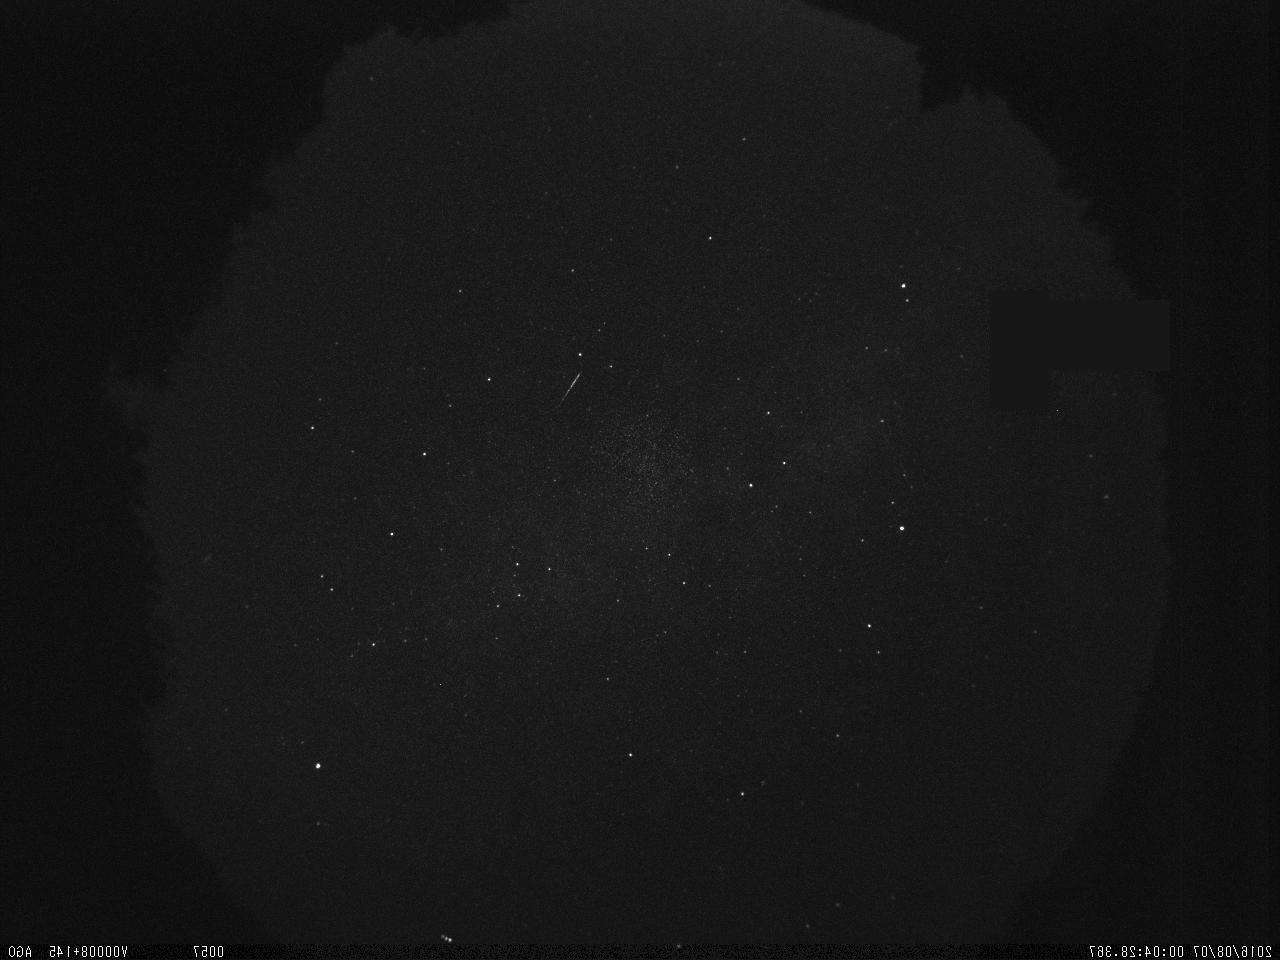meteor: (555, 366, 590, 412)
